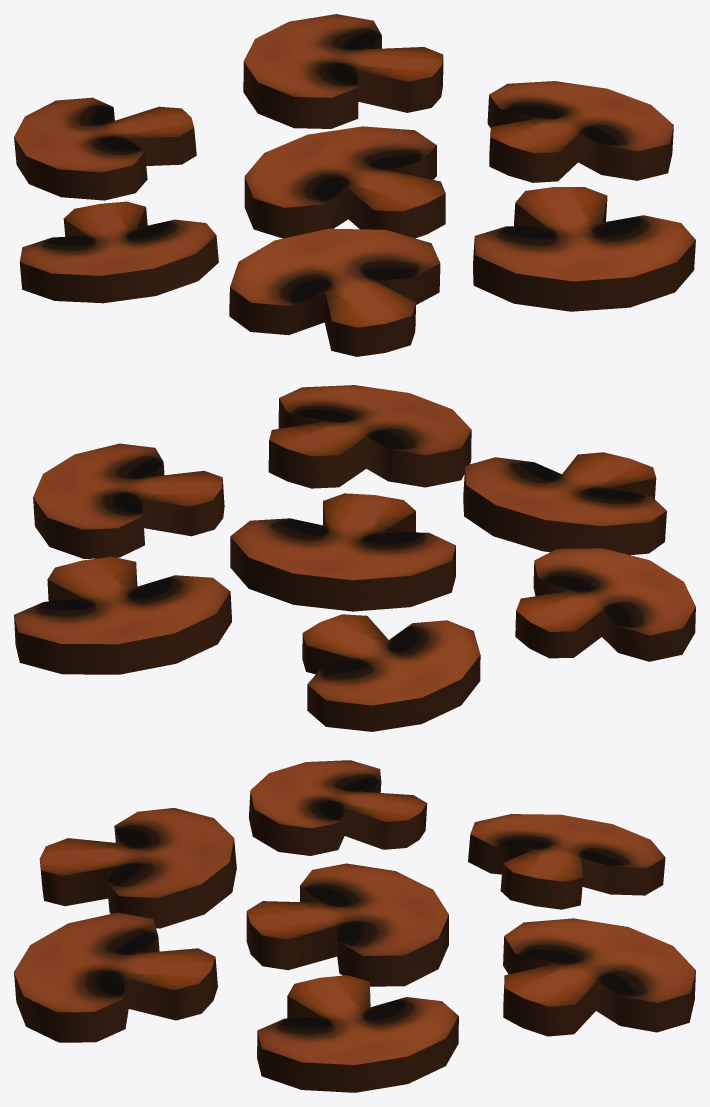
File: Pizza_Mushroom_Cooked.fbx
3 views of the same model, one above another, from view 1: azimuth 30°, elevation 25°; view 2: azimuth 150°, elevation 25°; view 3: azimuth 270°, elevation 25° (orthographic).
Visible parts, largest first — view 1: Pizza_Mushroom_Cooked; view 2: Pizza_Mushroom_Cooked; view 3: Pizza_Mushroom_Cooked.
Boxes of the visible parts, box(x1,y1,x2,y2) form: Pizza_Mushroom_Cooked: box(14, 14, 695, 356); Pizza_Mushroom_Cooked: box(14, 385, 695, 731); Pizza_Mushroom_Cooked: box(14, 760, 695, 1092).
Bounding box in the file's own units: 0.6521 × 0.0482 × 0.6146.
Materials: 1 (1 with a texture image).
